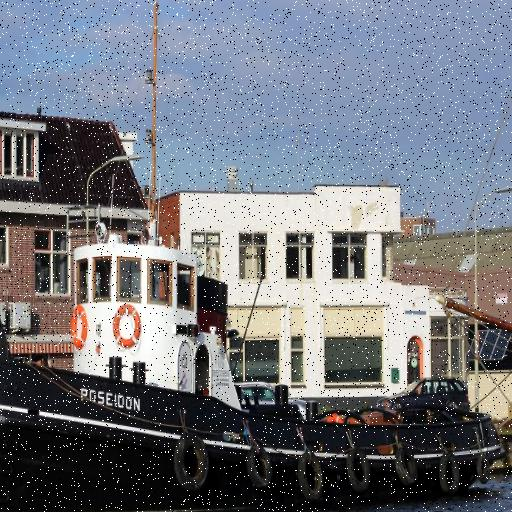tugboat: (1, 203, 506, 512)
